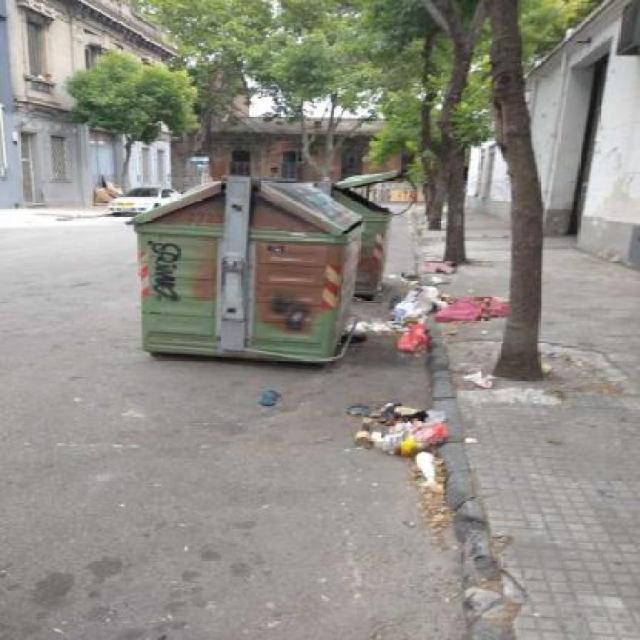garbage: (348, 395, 474, 490), (343, 281, 466, 356), (392, 246, 464, 282), (86, 171, 120, 204), (470, 294, 506, 318)
